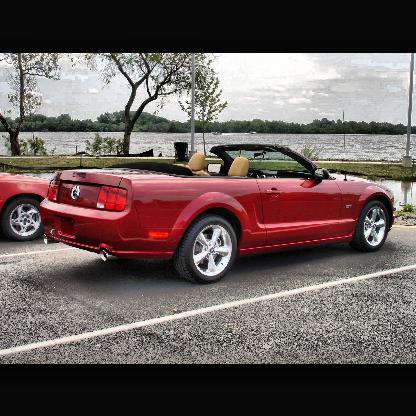Ford Mustang Convertible 2007: (38, 145, 396, 282)
